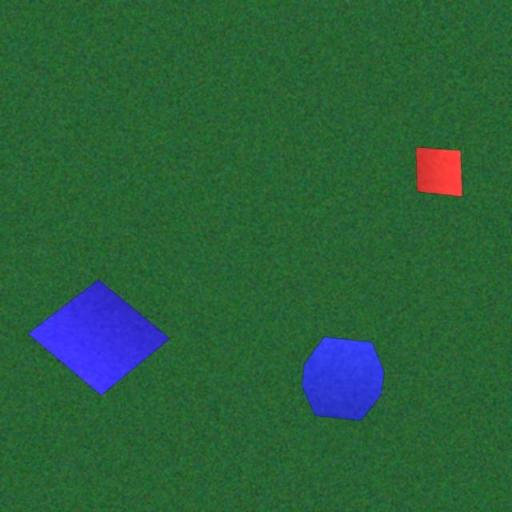BLUE_SQUARE: (27, 278, 171, 396)
RED_SQUARE: (415, 147, 463, 198)
